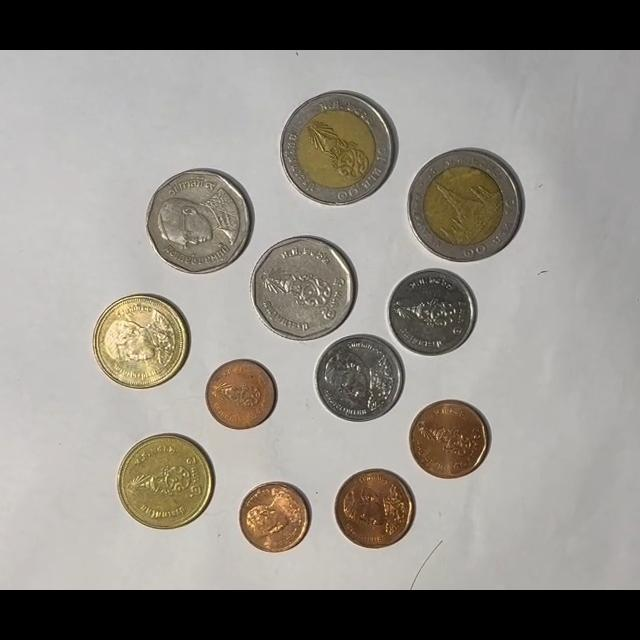1-baht: (387, 268, 477, 357), (314, 334, 404, 423)
10-baht: (280, 90, 397, 207), (407, 147, 524, 262)
2-baht: (117, 433, 215, 530), (92, 293, 188, 390)
25-satang: (238, 482, 311, 554), (205, 359, 276, 430)
5-baht: (146, 169, 252, 275), (250, 235, 356, 341)
50-satang: (409, 400, 490, 480), (334, 469, 415, 549)
